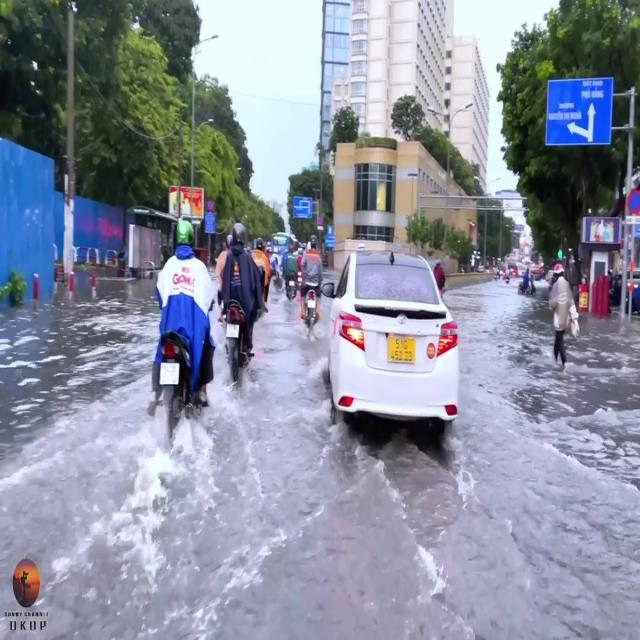bien_vang: (386, 331, 419, 374)
